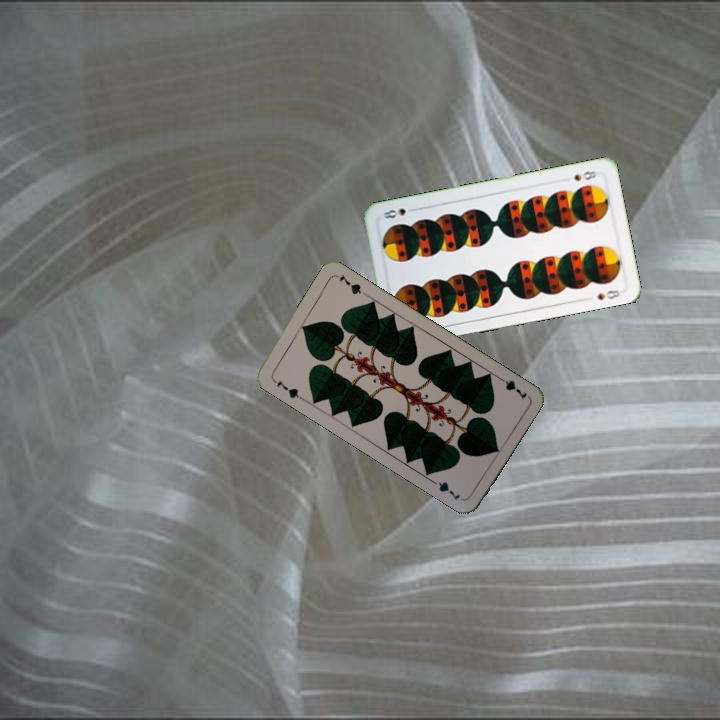G7: (493, 372, 530, 402), (268, 375, 305, 402)
S8: (570, 166, 602, 184)
